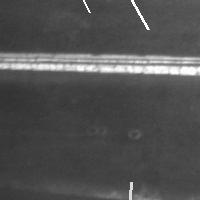scratches: (1, 45, 200, 77), (122, 0, 153, 34), (44, 0, 95, 17), (121, 177, 136, 200)
